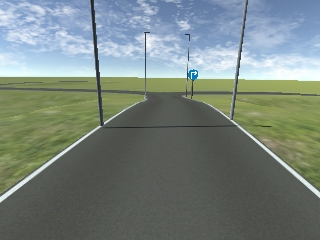right: (187, 70, 199, 80)
